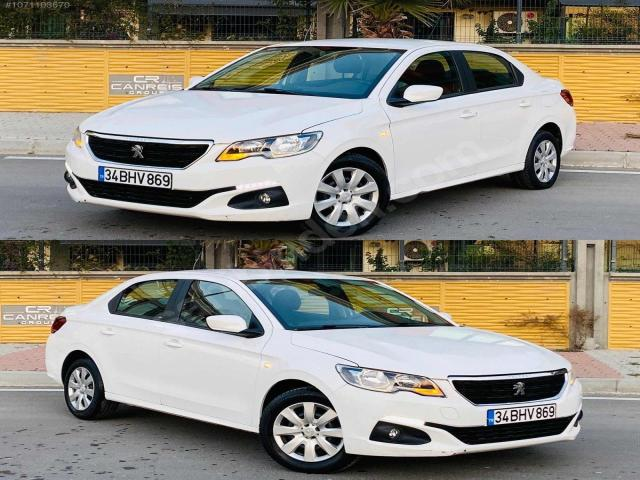plaka: (487, 404, 556, 426), (99, 167, 171, 188)
